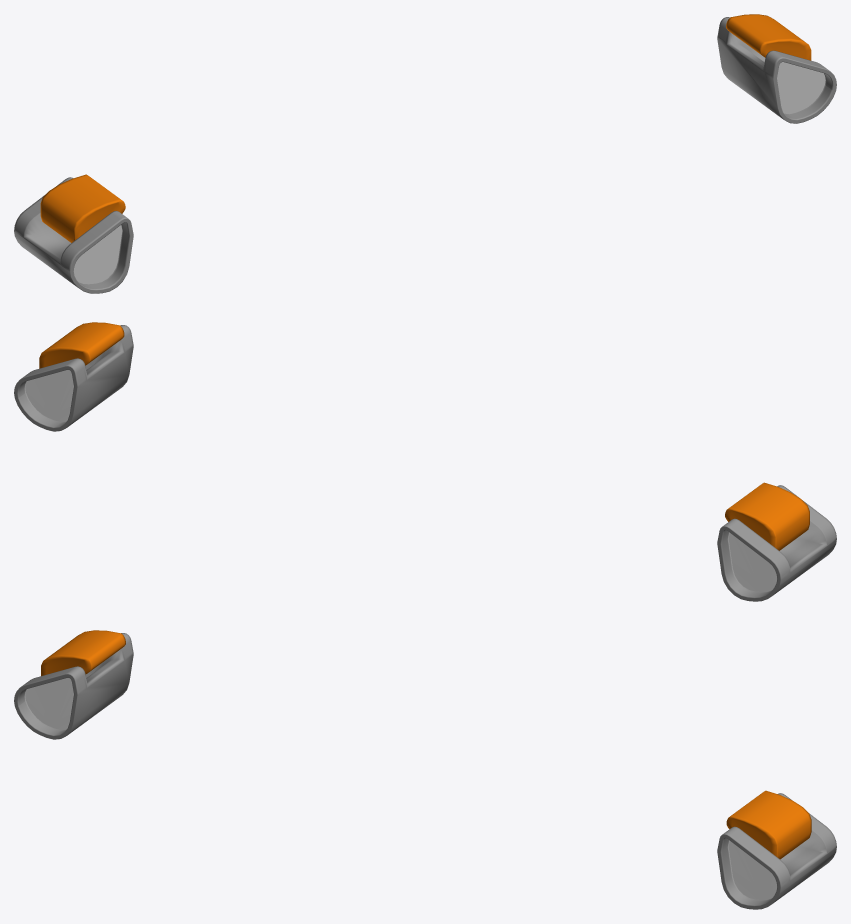
File: Drums_Kick_Fret.fbx
3 renders of one model, top to bottom at view 1: azimuth 30°, elevation 25°; view 2: azimuth 150°, elevation 25°; view 3: azimuth 330°, elevation 25°, orthographic.
Visible parts, largest first — view 1: Cube.020, Cube.001, Cube.010, Cube.002; view 2: Cube.020, Cube.001, Cube.010, Cube.002; view 3: Cube.020, Cube.001, Cube.002, Cube.010.
Boxes of the visible parts, bbox=[...] form: Cube.020: bbox=[14, 177, 133, 293]; Cube.001: bbox=[717, 17, 836, 123]; Cube.010: bbox=[40, 174, 125, 242]; Cube.002: bbox=[726, 14, 811, 60]; Cube.020: bbox=[717, 485, 836, 601]; Cube.001: bbox=[14, 325, 133, 431]; Cube.010: bbox=[725, 482, 809, 550]; Cube.002: bbox=[39, 322, 124, 368]; Cube.020: bbox=[14, 633, 133, 739]; Cube.001: bbox=[717, 793, 836, 909]; Cube.002: bbox=[726, 790, 811, 859]; Cube.010: bbox=[41, 630, 125, 675].
Size of the model in its own units: 1581 by 154 by 200.
